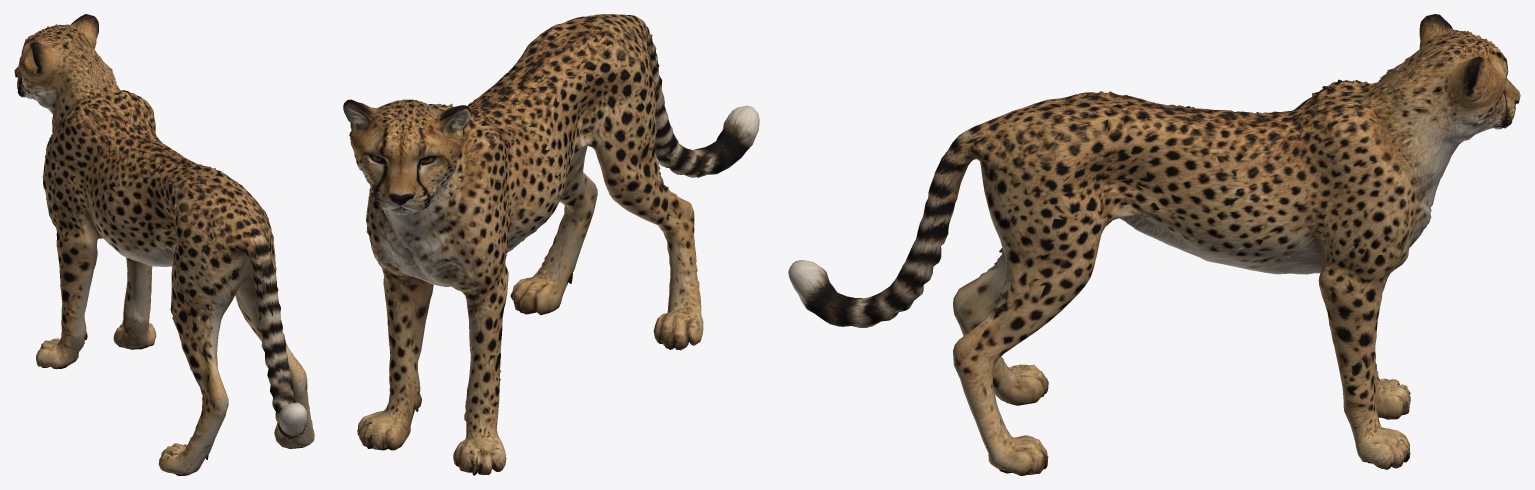
File: ghepardo.gltf
3 renders of one model, left to right at view 1: azimuth 30°, elevation 25°; view 2: azimuth 150°, elevation 25°; view 3: azimuth 270°, elevation 25°, orthographic. The views are drawn at different scales.
Parts seen in each view (by area): view 1: animal; view 2: animal; view 3: animal.
Boxes of the visible parts, left/top/right/bottom form: animal: left=14, top=14, right=314, bottom=475; animal: left=343, top=14, right=759, bottom=475; animal: left=788, top=14, right=1520, bottom=475.
Size of the model in its own units: 0.3831 by 0.7453 by 1.25.
Materials: 1 (1 with a texture image).
